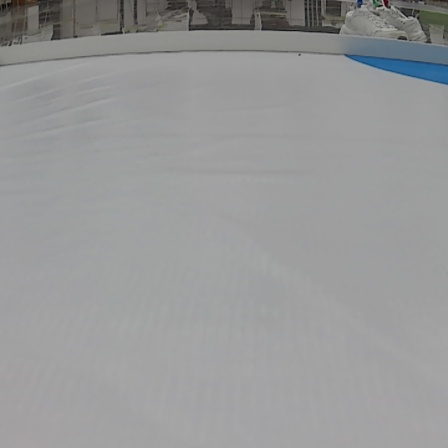blue_base: (344, 46, 448, 90)
